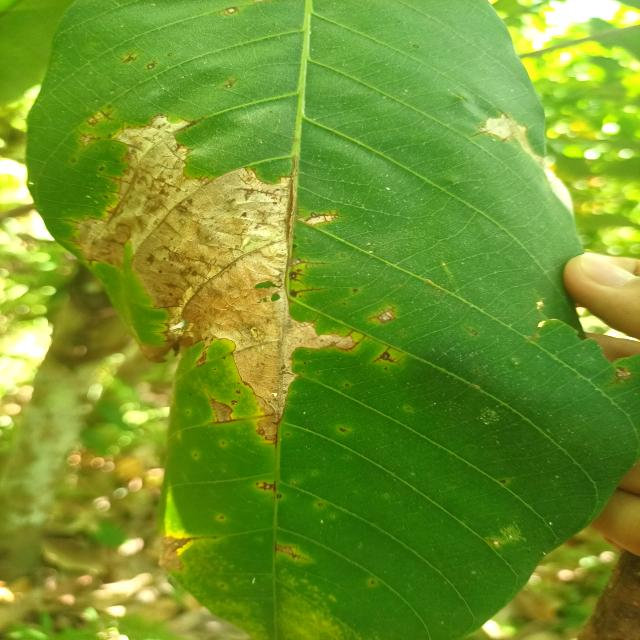Colletotrichum: (226, 8, 238, 14), (146, 64, 154, 69), (225, 85, 232, 88), (277, 494, 282, 498), (345, 383, 349, 387), (260, 430, 264, 434), (308, 240, 311, 243), (237, 391, 240, 394), (286, 433, 289, 436)
Corynespora: (372, 347, 405, 366), (274, 542, 307, 561), (368, 306, 397, 324), (236, 188, 278, 200), (305, 210, 344, 222), (289, 286, 325, 298), (296, 258, 331, 270), (99, 109, 116, 123), (328, 313, 330, 316), (393, 333, 395, 334)
Leaf-Blight: (72, 117, 358, 446), (484, 113, 574, 213), (156, 536, 190, 572), (213, 400, 233, 422)
